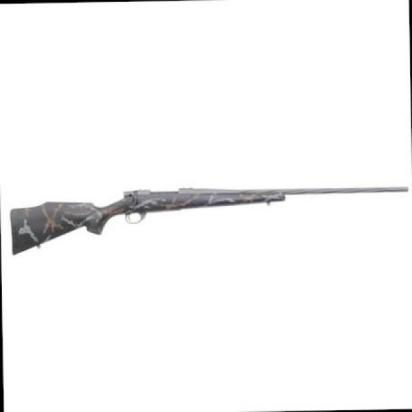Gun: (8, 175, 410, 253)
